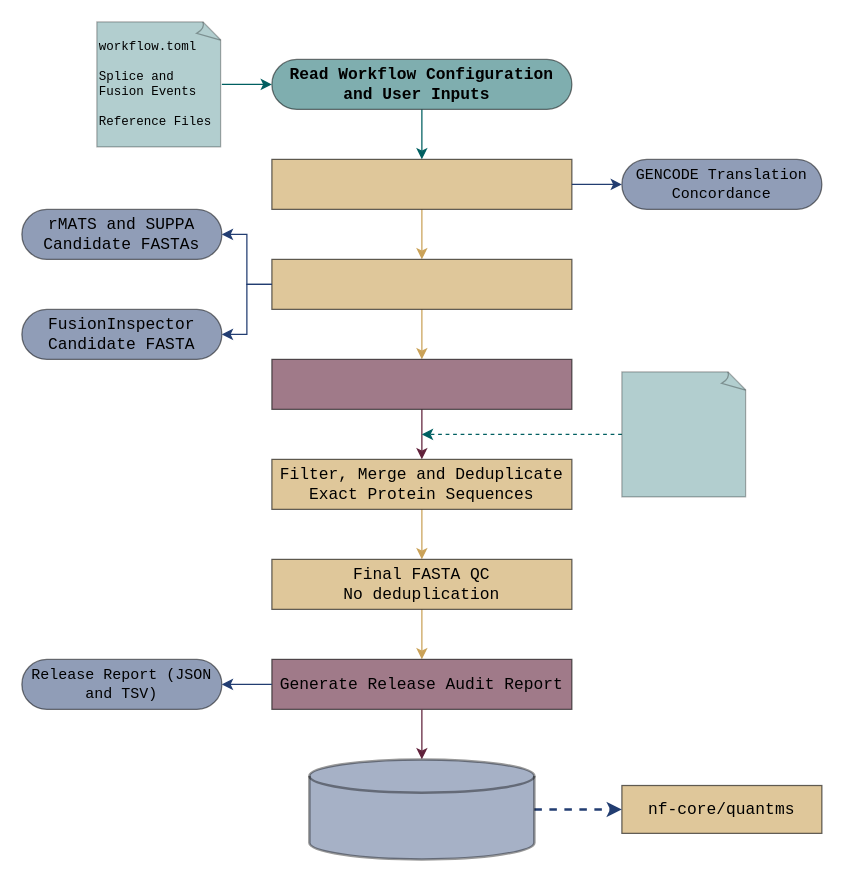
The diagram is 844 pixels wide and 883 high, and some of its shapes have lost their labels. Here are the shapes that lost their labels. From the top down, the centre of each, then its label:
(421,183): Validate GENCODE Reference Translation
(421,283): Reconstruct Event-Derived Protein Candidates
(421,383): Validate Producer Headers and GENCODE Release Gate
(684,434): Human Reference Proteome cRAP Contaminants
(421,809): Final QC Validated Integrated Proteogenomic Database
